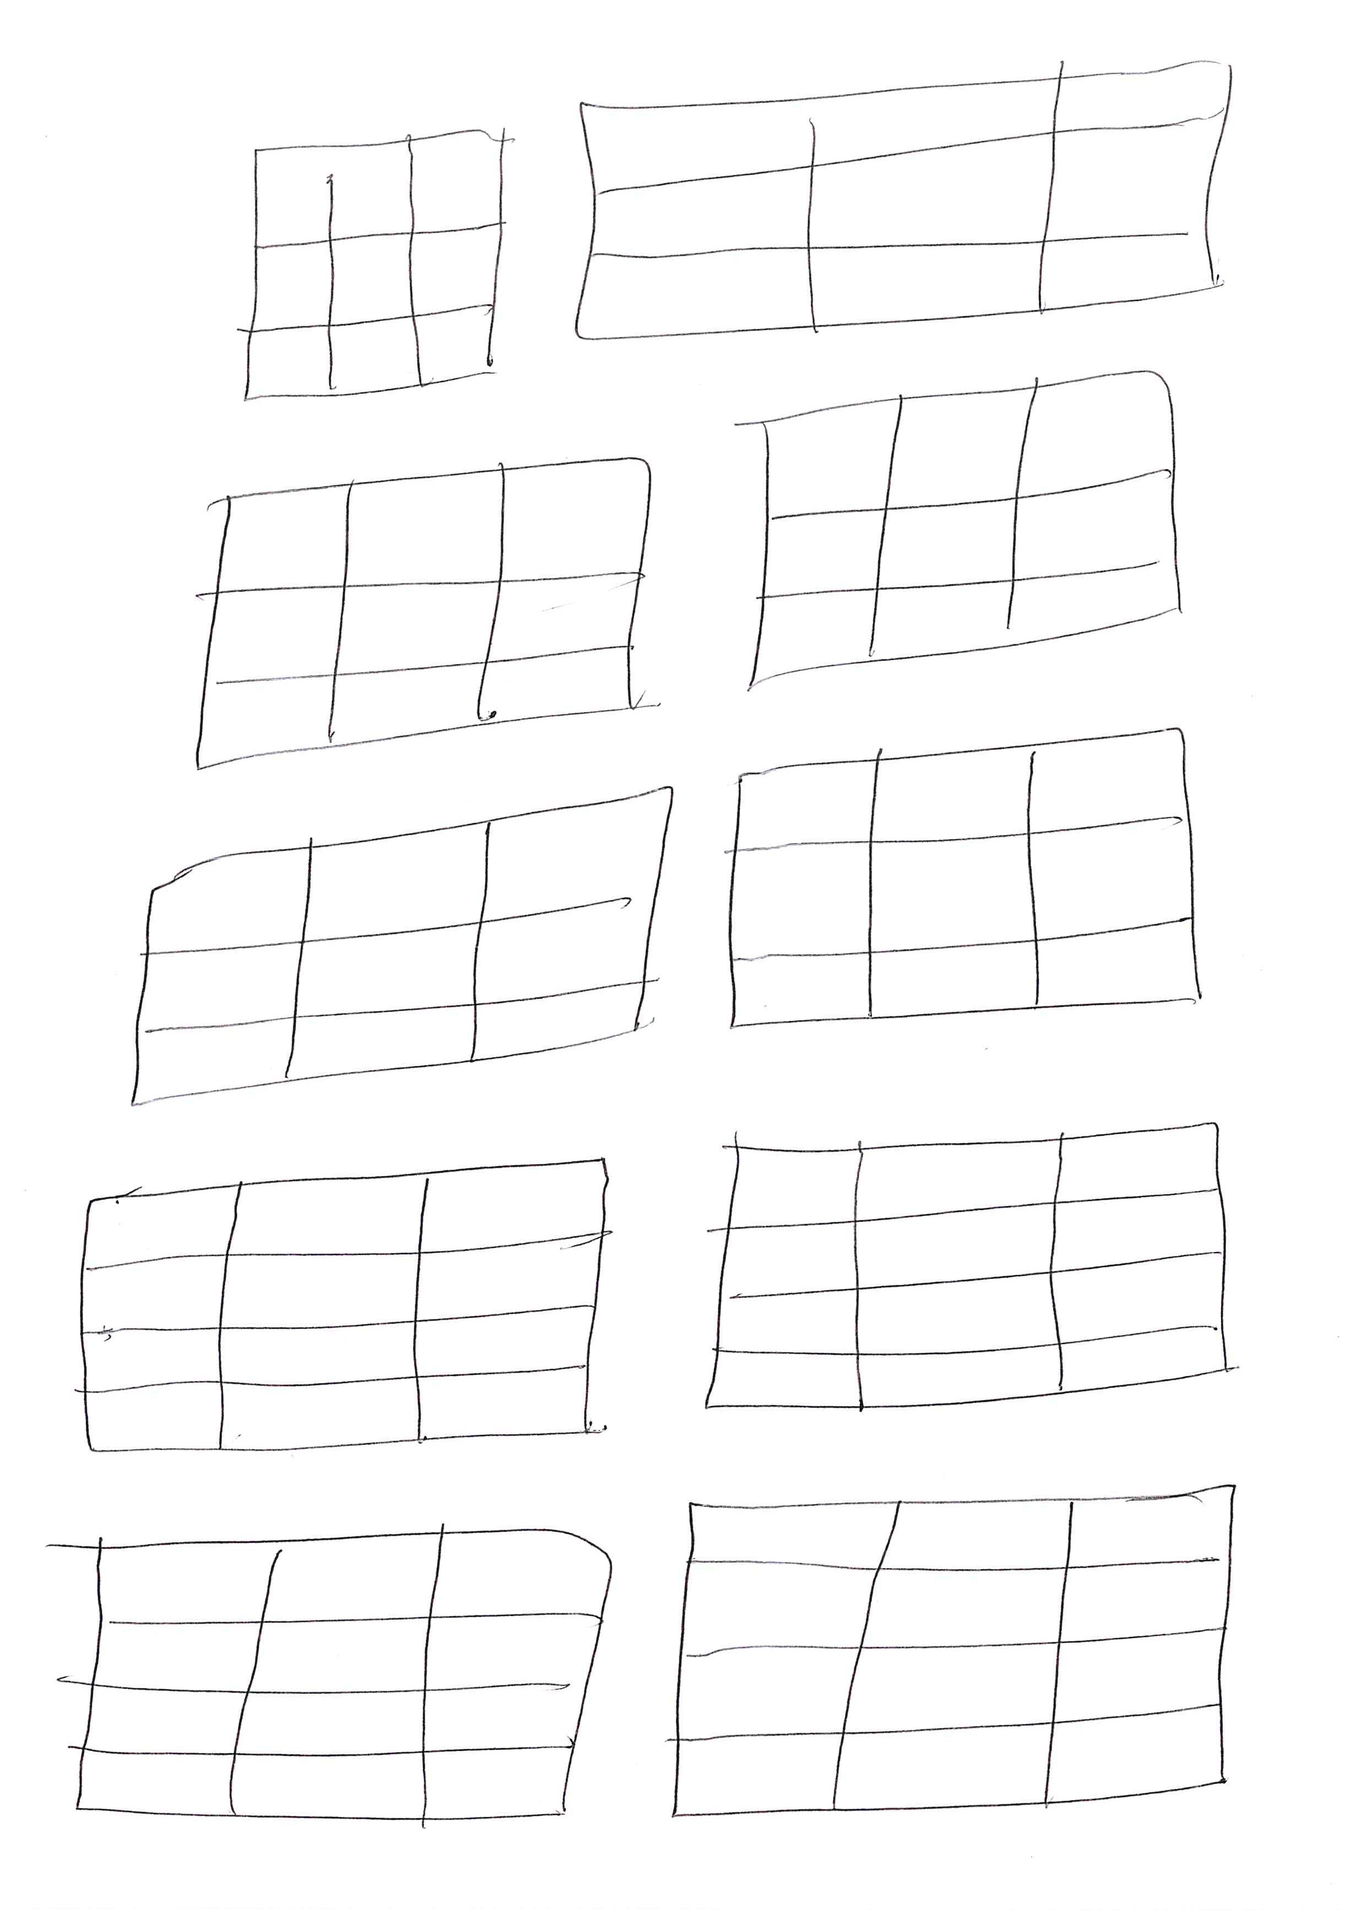Table: (667, 1479, 1240, 1822), (571, 56, 1236, 345), (126, 779, 677, 1106), (75, 1156, 616, 1456), (71, 1527, 614, 1826), (701, 1119, 1231, 1412), (191, 452, 656, 772), (721, 722, 1200, 1029), (744, 367, 1184, 693), (237, 124, 512, 402)
